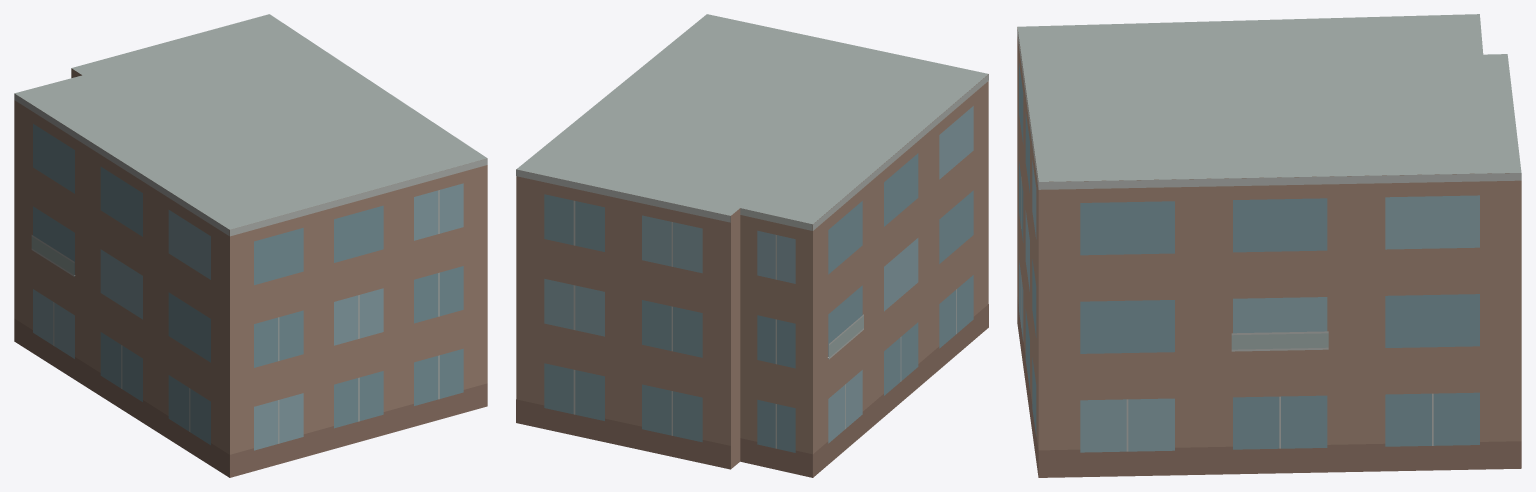
File: survey-upis-32974206.glb
3 renders of one model, left to right at view 1: azimuth 30°, elevation 25°; view 2: azimuth 150°, elevation 25°; view 3: azimuth 270°, elevation 25°, orthographic. The views are drawn at different scales.
Parts seen in each view (by area): view 1: survey-upis-32974206.tmp; view 2: survey-upis-32974206.tmp; view 3: survey-upis-32974206.tmp.
Boxes of the visible parts, left/top/right/bottom form: survey-upis-32974206.tmp: left=14, top=14, right=487, bottom=477; survey-upis-32974206.tmp: left=516, top=14, right=988, bottom=477; survey-upis-32974206.tmp: left=1017, top=14, right=1521, bottom=477.
Size of the model in its own units: 11.15 by 9.15 by 14.14.
